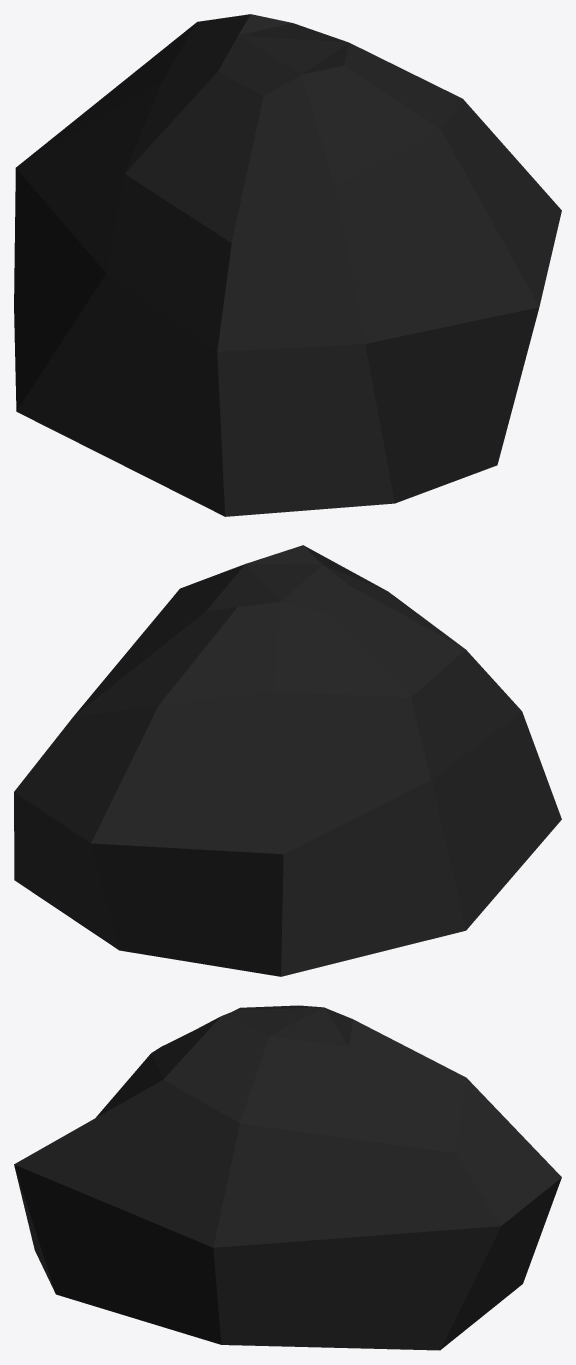
File: Rock.2.fbx
The picture shows the model from 3 angles, top to bottom: view 1: azimuth 30°, elevation 25°; view 2: azimuth 150°, elevation 25°; view 3: azimuth 270°, elevation 25°; orthographic projection. The views are drawn at different scales.
Parts seen in each view (by area): view 1: Rock.002; view 2: Rock.002; view 3: Rock.002.
Part boxes in pixels (<box>): Rock.002: <box>14,14,561,516</box>; Rock.002: <box>14,545,561,976</box>; Rock.002: <box>14,1005,561,1350</box>.
Size of the model in its own units: 160 by 108 by 207.
